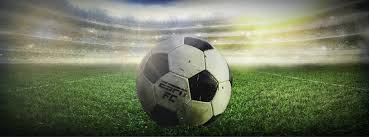football ball: (132, 34, 237, 131)
